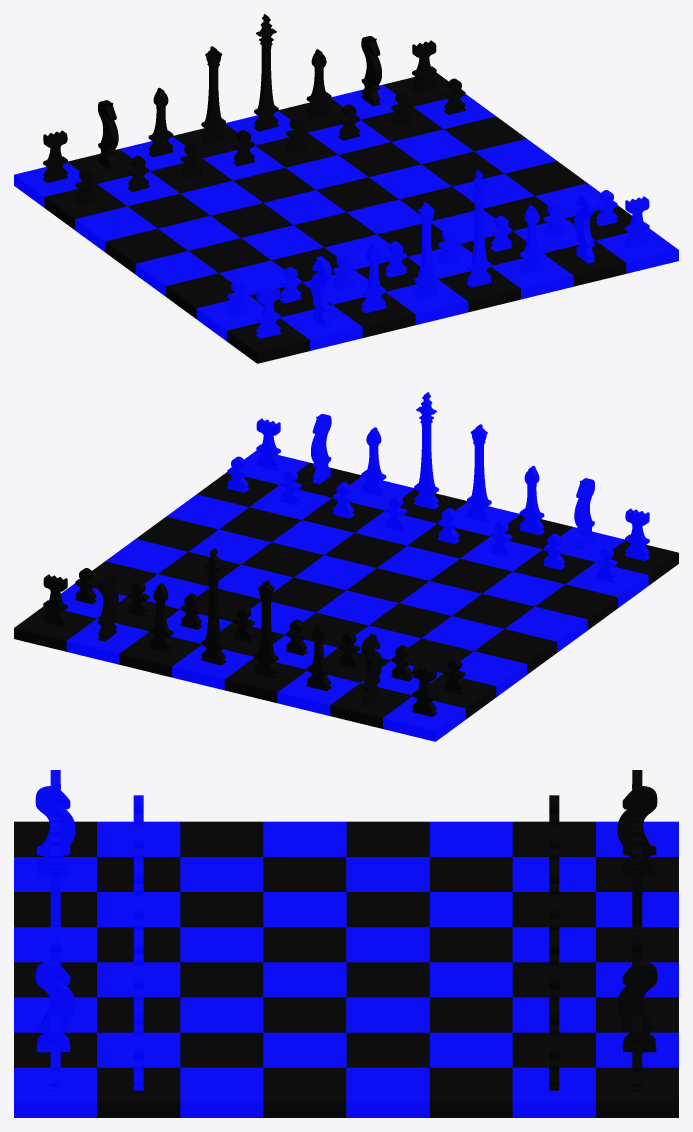
File: Chess2.glb
3 renders of one model, top to bottom at view 1: azimuth 30°, elevation 25°; view 2: azimuth 150°, elevation 25°; view 3: azimuth 270°, elevation 25°, orthographic. The views are drawn at different scales.
Size of the model in its own units: 8 by 2.24 by 8.
